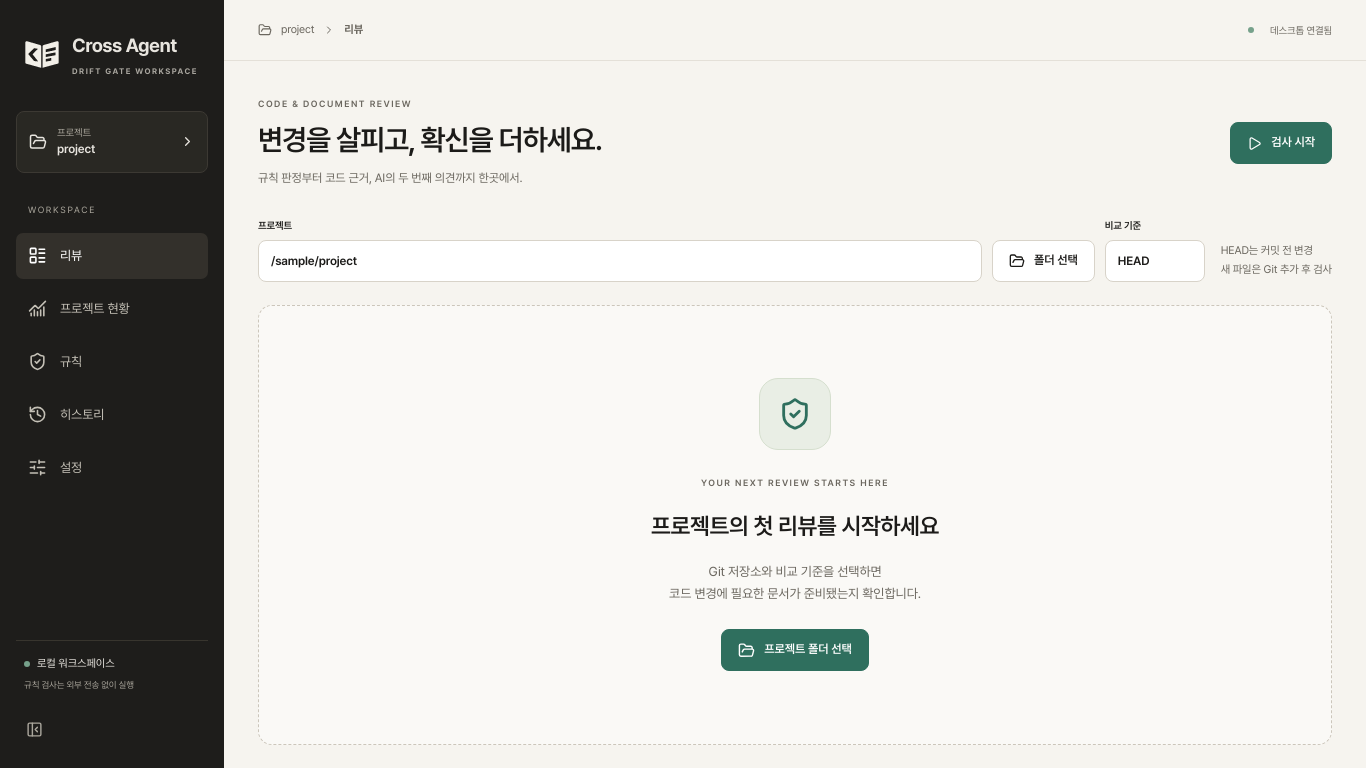
Test: desktop review flow › displays backend errors and keeps the next action available
The image size is (1366, 768).
Step 1. Click the button "검사 시작" → [1281, 143], box top-left (1230, 122), bottom-right (1332, 164)
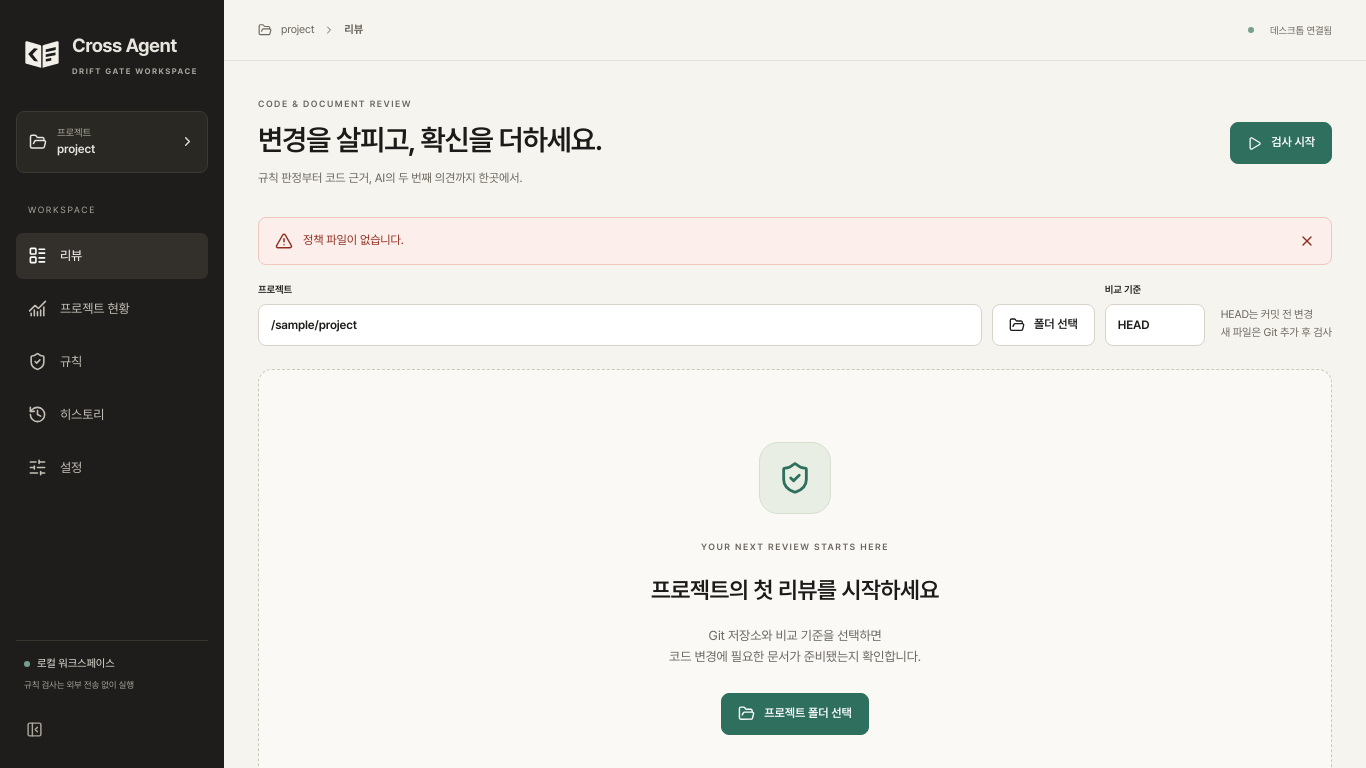
Check: the message reads "정책 파일이 없습니다.", box top-left (303, 233), bottom-right (404, 247)
